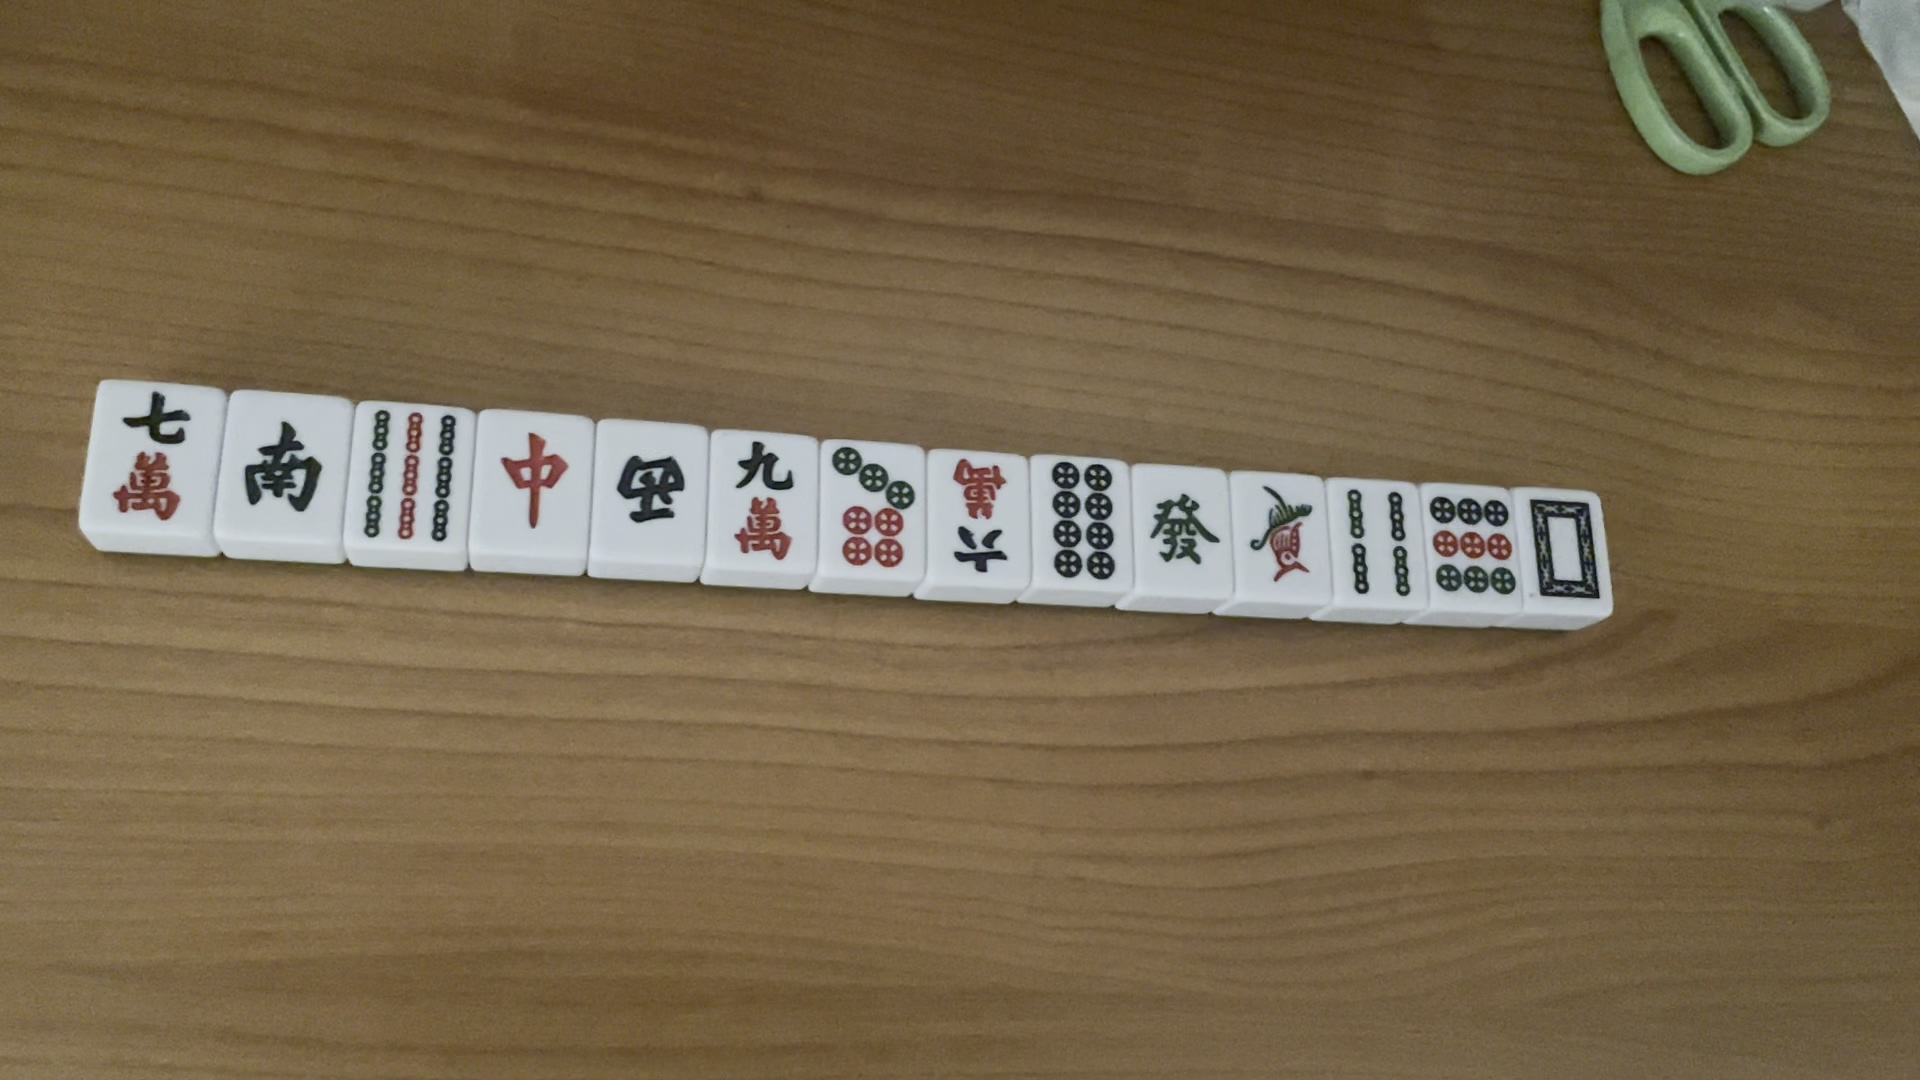b-1: (1242, 476, 1319, 589)
b-4: (1341, 483, 1412, 599)
b-9: (355, 406, 462, 547)
c-6: (945, 451, 1015, 585)
c-7: (100, 385, 196, 522)
c-9: (729, 436, 802, 568)
d-7: (823, 443, 915, 574)
d-8: (1042, 460, 1126, 582)
d-9: (1429, 489, 1519, 601)
honors-green: (1142, 491, 1225, 578)
honors-red: (495, 425, 578, 541)
honors-south: (239, 409, 338, 527)
honors-west: (609, 447, 690, 534)
honors-white: (1523, 483, 1606, 609)
